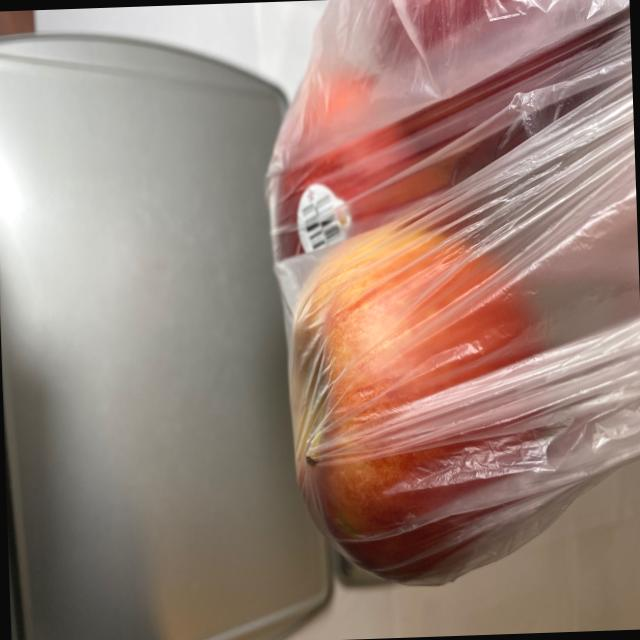apple: (260, 0, 601, 592)
